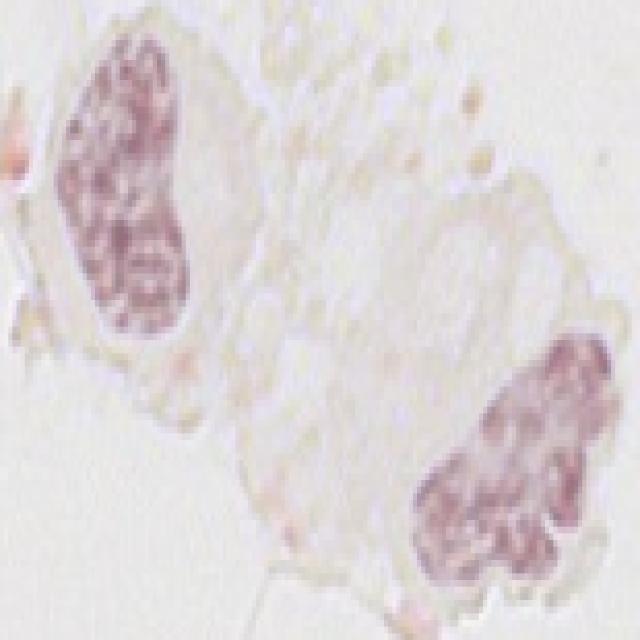nucleus: (42, 34, 201, 349)
